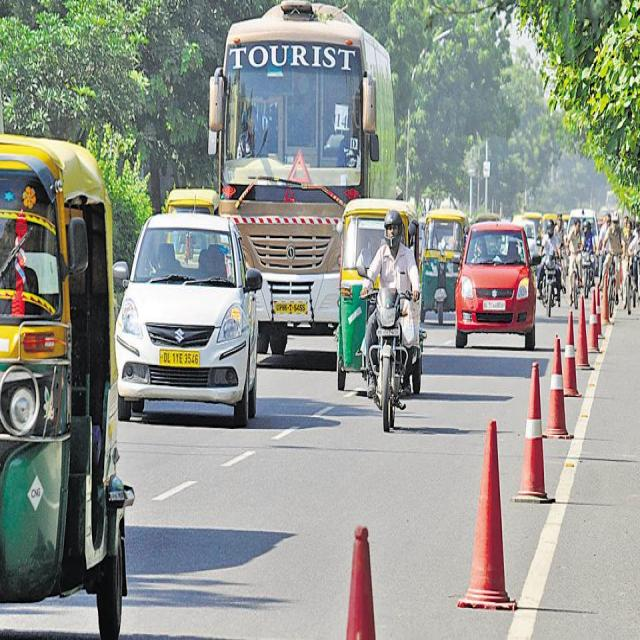Auto: (0, 133, 131, 638), (338, 198, 419, 388), (420, 209, 469, 319), (166, 189, 219, 214)
Bus: (209, 0, 395, 353)
Car: (114, 213, 261, 426), (454, 222, 539, 350)
Two Wheeler: (542, 256, 556, 317)
